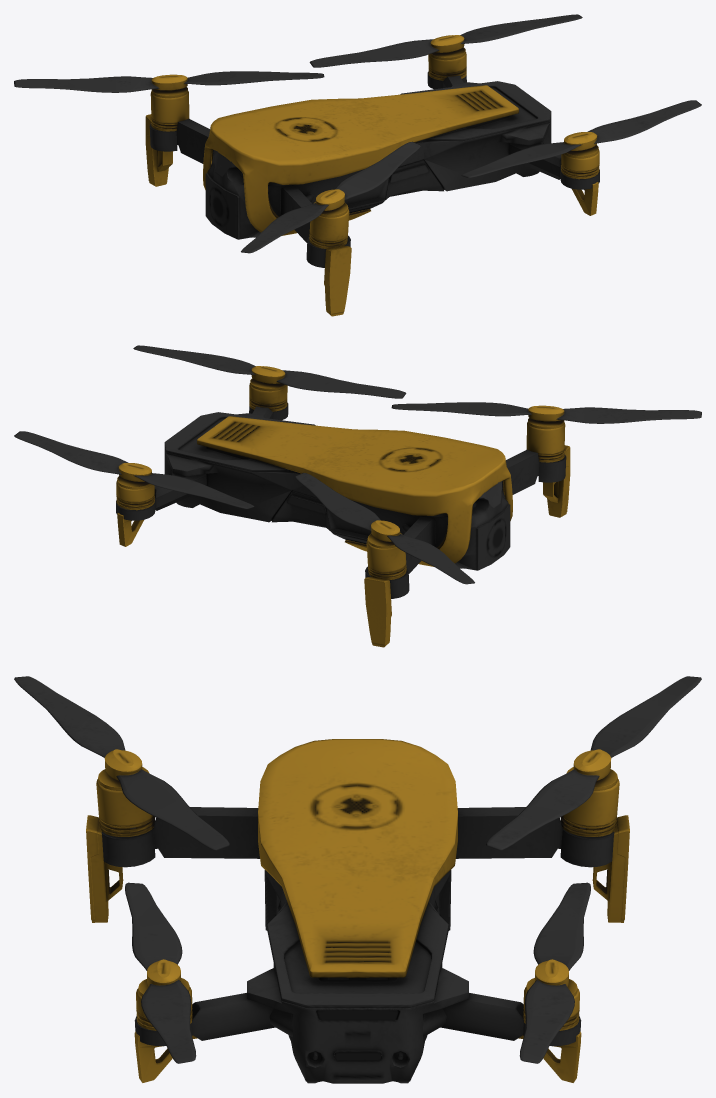
Rendered from Drone.fbx.
3 renders of one model, top to bottom at view 1: azimuth 30°, elevation 25°; view 2: azimuth 150°, elevation 25°; view 3: azimuth 270°, elevation 25°, orthographic. The views are drawn at different scales.
Visible parts, largest first — view 1: Drone_Base, Drone_Fan_2, Drone_Fan_4, Drone_Fan_1, Drone_Fan_3; view 2: Drone_Base, Drone_Fan_4, Drone_Fan_2, Drone_Fan_3, Drone_Fan_1; view 3: Drone_Base, Drone_Fan_2, Drone_Fan_4, Drone_Fan_1, Drone_Fan_3.
Boxes of the visible parts, x1,y1,x2,y2 form: Drone_Base: (145,47,599,316); Drone_Fan_2: (14,71,324,92); Drone_Fan_4: (241,141,420,253); Drone_Fan_1: (309,14,582,67); Drone_Fan_3: (461,100,701,177); Drone_Base: (116,378,570,647); Drone_Fan_4: (391,402,701,423); Drone_Fan_2: (295,472,474,584); Drone_Fan_3: (133,345,406,398); Drone_Fan_1: (14,431,254,508); Drone_Base: (86,739,629,1083); Drone_Fan_2: (486,676,701,850); Drone_Fan_4: (14,676,229,850); Drone_Fan_1: (519,882,590,1063); Drone_Fan_3: (125,882,196,1063).
Bounding box in the file's own units: 96.92 × 20.46 × 77.22.
Materials: 1 (1 with a texture image).
